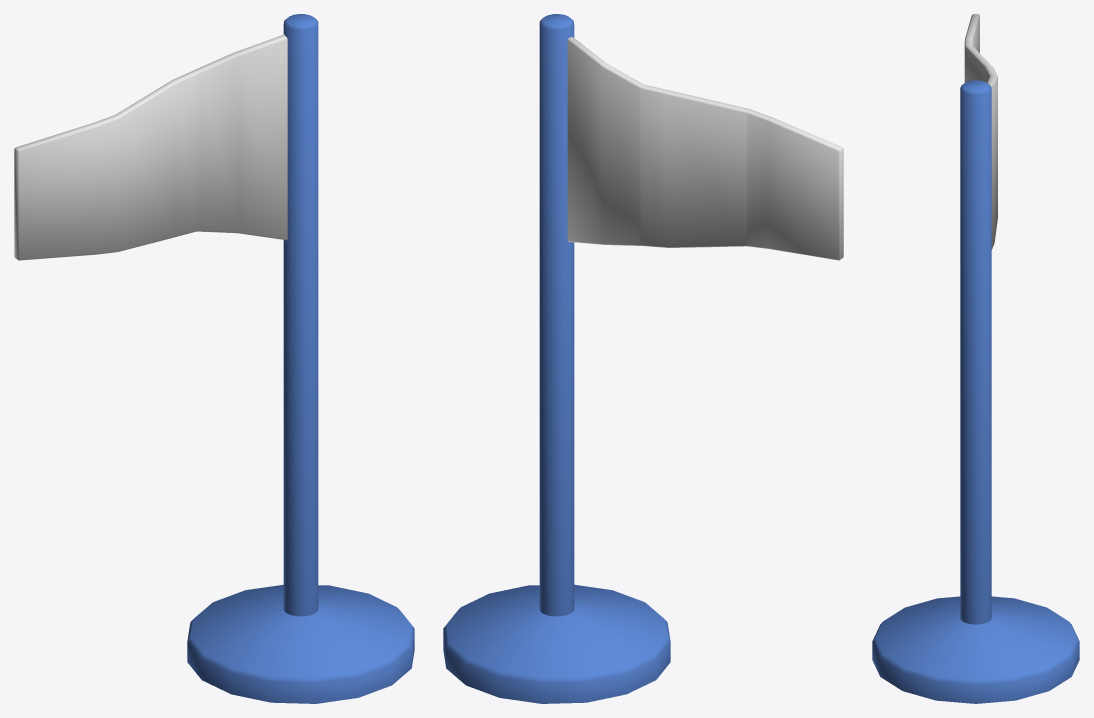
Rendered from flag.glb.
3 renders of one model, left to right at view 1: azimuth 30°, elevation 25°; view 2: azimuth 150°, elevation 25°; view 3: azimuth 270°, elevation 25°, orthographic. The views are drawn at different scales.
Visible parts, largest first — view 1: Cube, Cylinder; view 2: Cube, Cylinder; view 3: Cylinder, Cube.
Boxes of the visible parts, x1,y1,x2,y2 form: Cube: (14, 34, 287, 260); Cylinder: (187, 14, 414, 703); Cube: (567, 36, 843, 260); Cylinder: (443, 14, 670, 703); Cylinder: (872, 80, 1079, 703); Cube: (964, 14, 997, 249).
Size of the model in its own units: 1.94 by 3.06 by 1.
